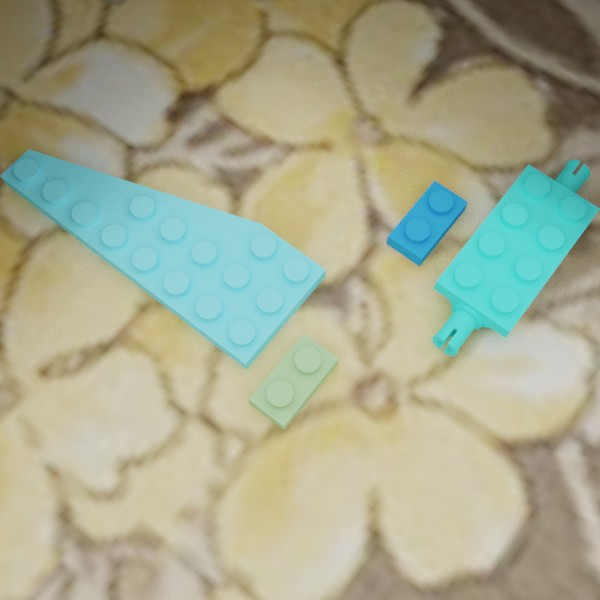lego: (0, 149, 325, 369), (432, 159, 600, 356), (248, 333, 338, 430), (386, 180, 468, 266)
